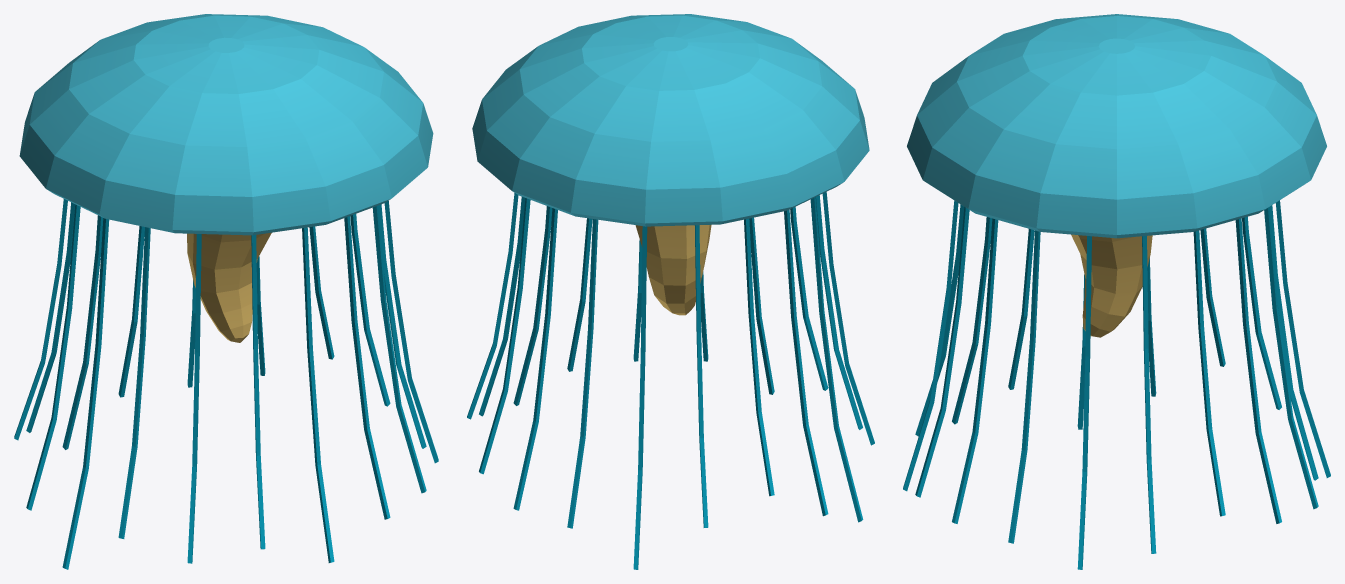
File: jellyfish_robe.glb
The picture shows the model from 3 angles, left to right: view 1: azimuth 30°, elevation 25°; view 2: azimuth 150°, elevation 25°; view 3: azimuth 270°, elevation 25°; orthographic projection. The views are drawn at different scales.
Visible parts, largest first — view 1: jellyfish_robe_merged; view 2: jellyfish_robe_merged; view 3: jellyfish_robe_merged.
Boxes of the visible parts, x1,y1,x2,y2 form: jellyfish_robe_merged: [14, 14, 438, 569]; jellyfish_robe_merged: [467, 14, 874, 569]; jellyfish_robe_merged: [903, 14, 1330, 569].
Bounding box in the file's own units: 2.96 × 3.64 × 3.
1 material, 1 textured.
